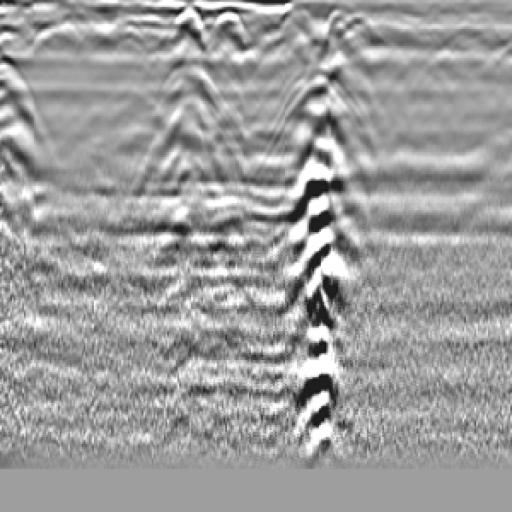metalic: (118, 11, 251, 304)
nonmetalic: (262, 32, 390, 478), (1, 39, 61, 288)
